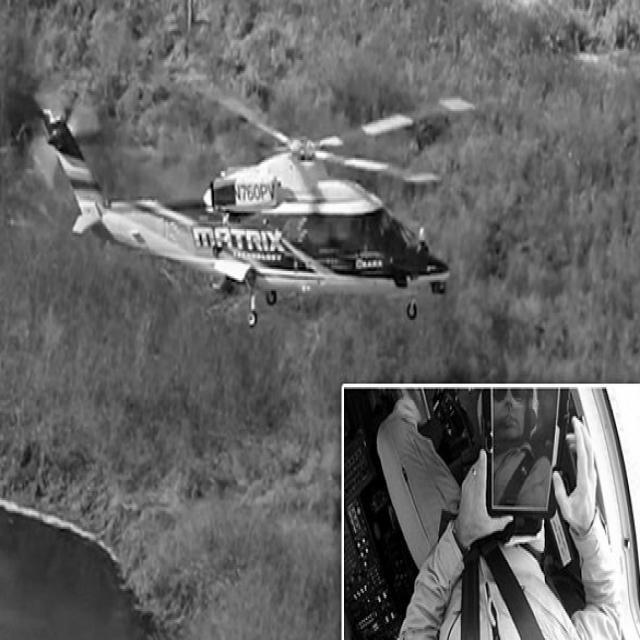helicopter: (36, 79, 480, 316)
